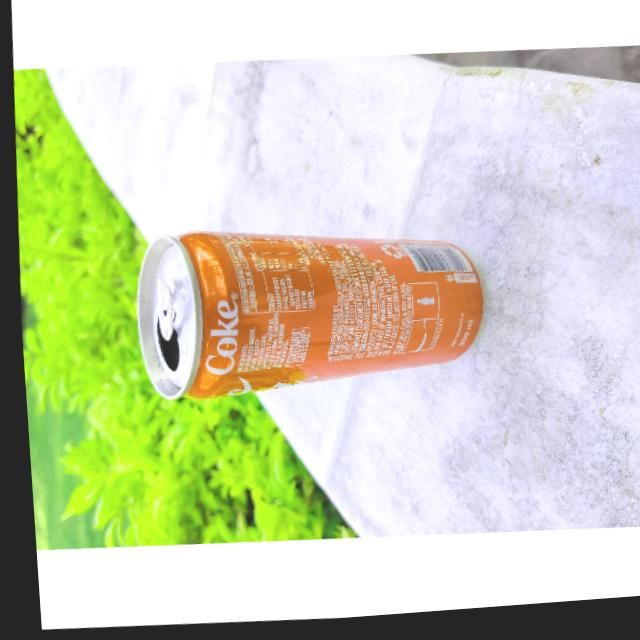Coca Cola: (118, 209, 490, 419)
